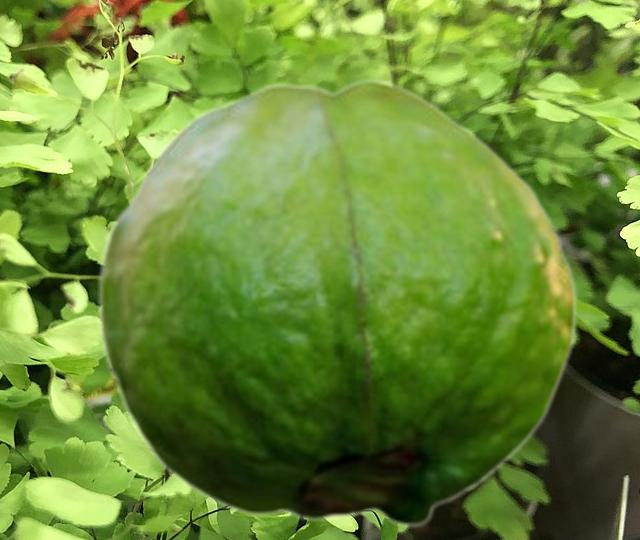guava: (97, 77, 576, 528)
